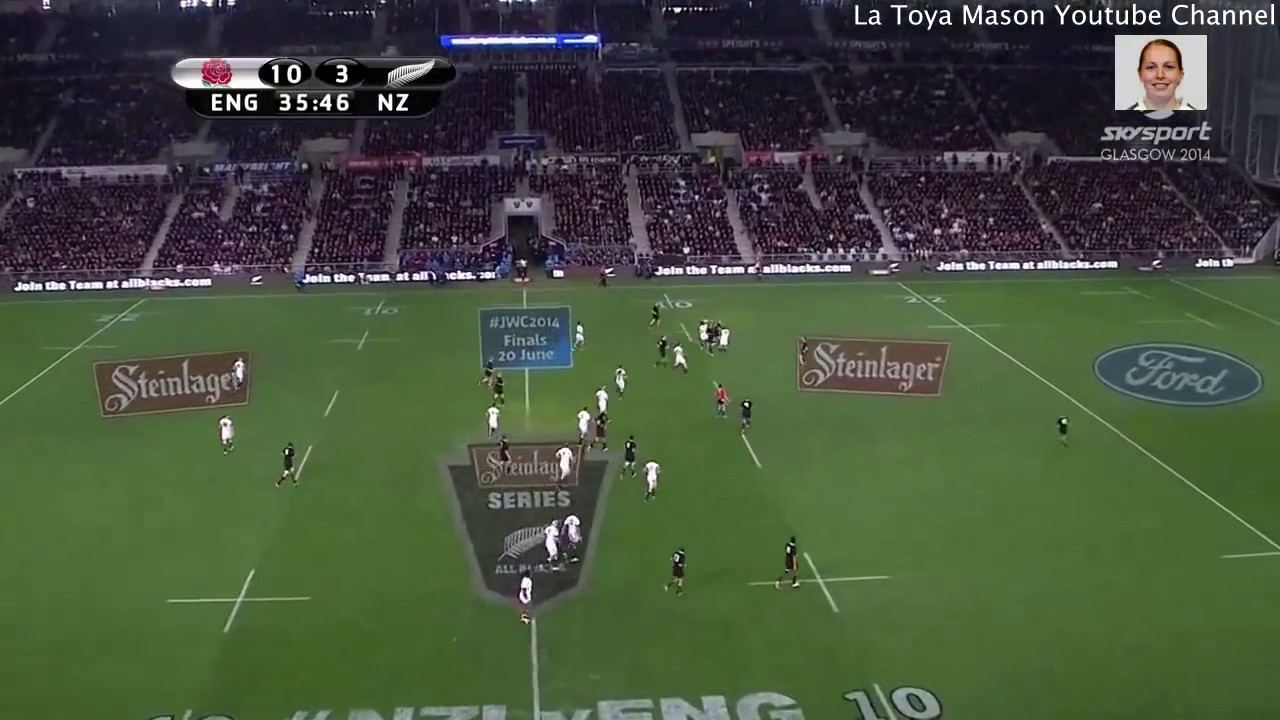10_metre: (163, 562, 319, 638), (749, 547, 902, 618), (343, 297, 414, 322), (650, 321, 727, 344), (326, 328, 400, 351), (641, 292, 710, 310)
player: (772, 533, 801, 592), (210, 409, 242, 460), (270, 439, 301, 491), (661, 545, 689, 600), (557, 512, 585, 564), (550, 442, 578, 486), (515, 567, 535, 628), (541, 516, 562, 572), (640, 457, 663, 504), (588, 411, 609, 454), (1052, 409, 1074, 450), (480, 402, 502, 443), (711, 382, 733, 423), (619, 434, 637, 482), (737, 395, 756, 438), (573, 406, 592, 448), (476, 353, 495, 394), (227, 353, 251, 383), (497, 433, 513, 476), (569, 320, 589, 354), (653, 333, 671, 369), (672, 341, 690, 376), (592, 384, 612, 415), (491, 372, 507, 409), (612, 363, 627, 401), (646, 301, 663, 330), (796, 334, 810, 366), (716, 324, 732, 352), (696, 318, 708, 352)
